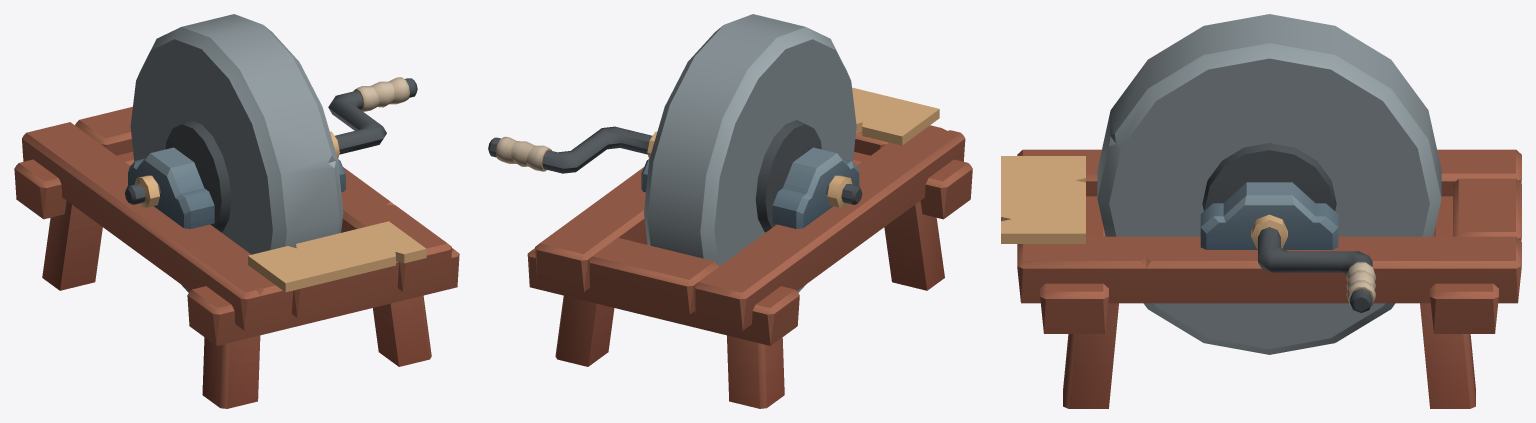
The model's file is grindstone.gltf.
3 renders of one model, left to right at view 1: azimuth 30°, elevation 25°; view 2: azimuth 150°, elevation 25°; view 3: azimuth 270°, elevation 25°, orthographic. The views are drawn at different scales.
Parts seen in each view (by area): view 1: grindstone, grindstone_wheel; view 2: grindstone, grindstone_wheel; view 3: grindstone_wheel, grindstone.
Boxes of the visible parts, left/top/right/bottom form: grindstone: left=14, top=106, right=459, bottom=408; grindstone_wheel: left=125, top=14, right=417, bottom=292; grindstone: left=527, top=87, right=972, bottom=408; grindstone_wheel: left=488, top=14, right=862, bottom=292; grindstone_wheel: left=1097, top=14, right=1441, bottom=354; grindstone: left=1001, top=149, right=1521, bottom=408.
Size of the model in its own units: 1.94 by 1.55 by 2.27.
Materials: 1 (1 with a texture image).
